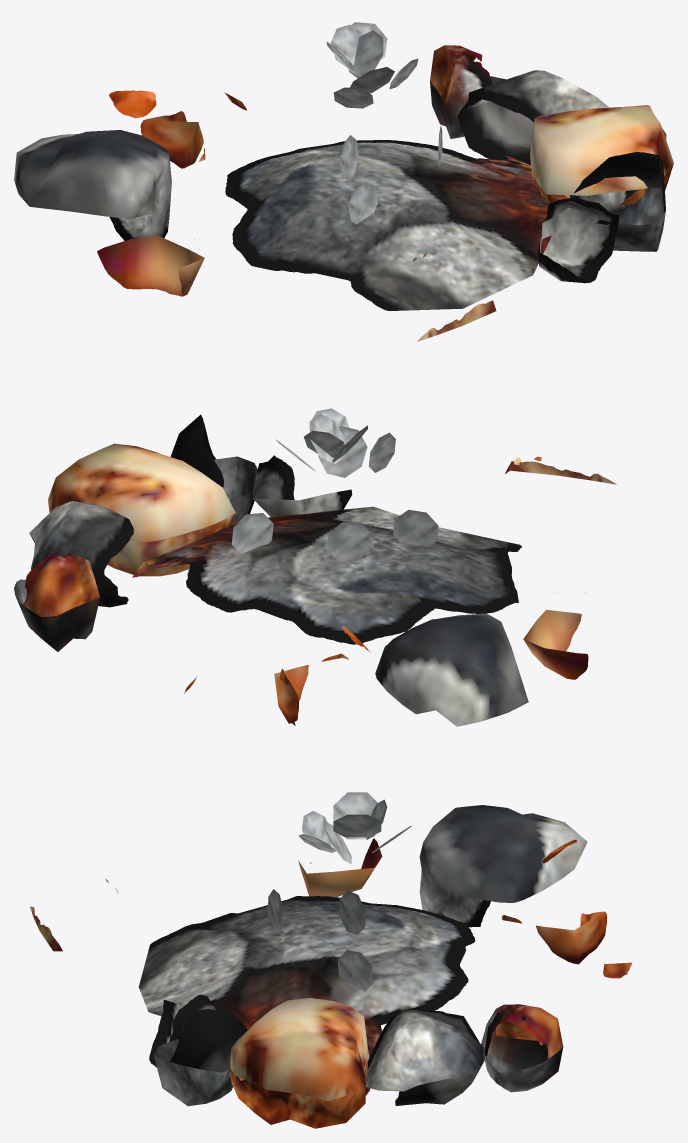
Rendered from Campfire.fbx.
3 renders of one model, top to bottom at view 1: azimuth 30°, elevation 25°; view 2: azimuth 150°, elevation 25°; view 3: azimuth 270°, elevation 25°, orthographic. The views are drawn at different scales.
Parts seen in each view (by area): view 1: Campfire; view 2: Campfire; view 3: Campfire.
Part boxes in pixels (x1,y1,x2,y2): Campfire: (14, 22, 673, 341); Campfire: (14, 408, 616, 726); Campfire: (30, 792, 632, 1128).
Bounding box in the file's own units: 1.44 × 0.4687 × 1.39.
